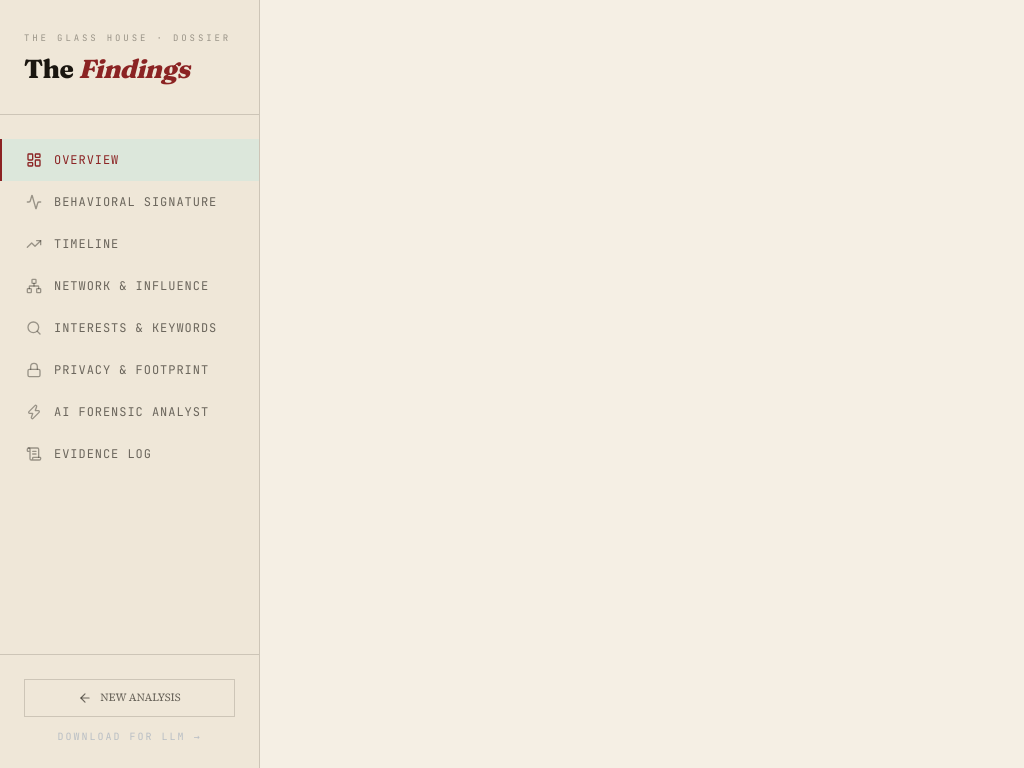
Test case: Interests tab renders the Targeting Card panel from the payload
This screenshot has width=1024, height=768.
What coordinates should you click on to do the following:
click the button "Interests & Keywords"
I would click on:
 (130, 328)
Its box is [0, 306, 259, 348].
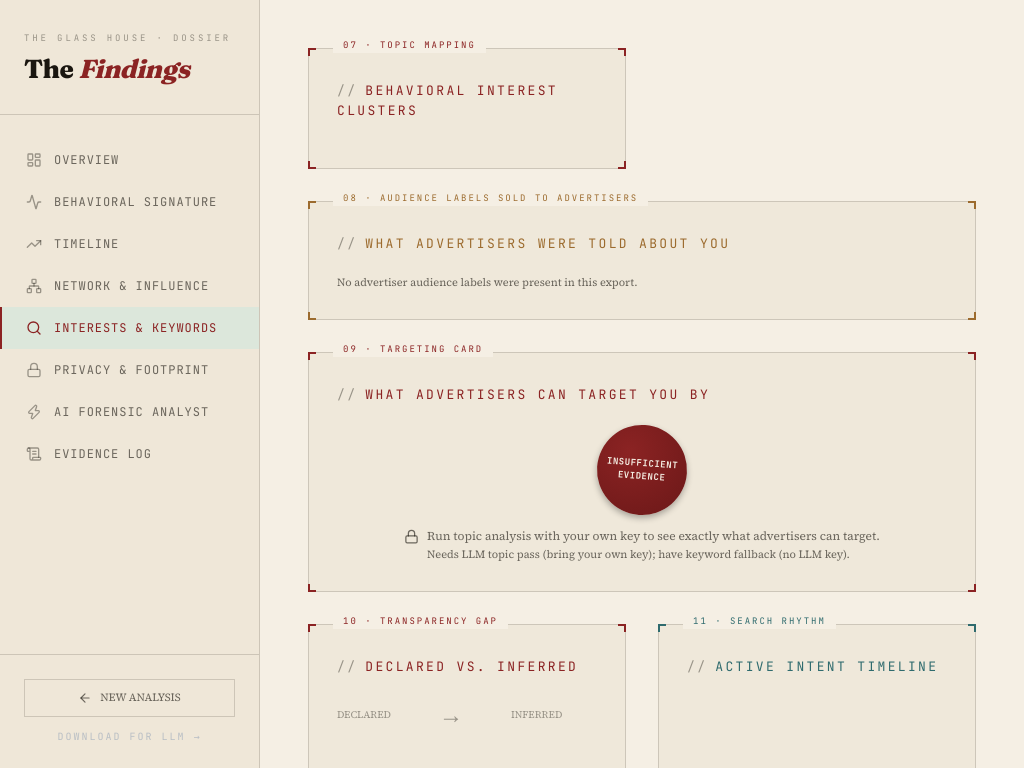
Expected: the text "09 · Targeting Card" is shown, [333, 343, 493, 357]
Expected: the text "bring your own key" is shown, [462, 547, 652, 562]
